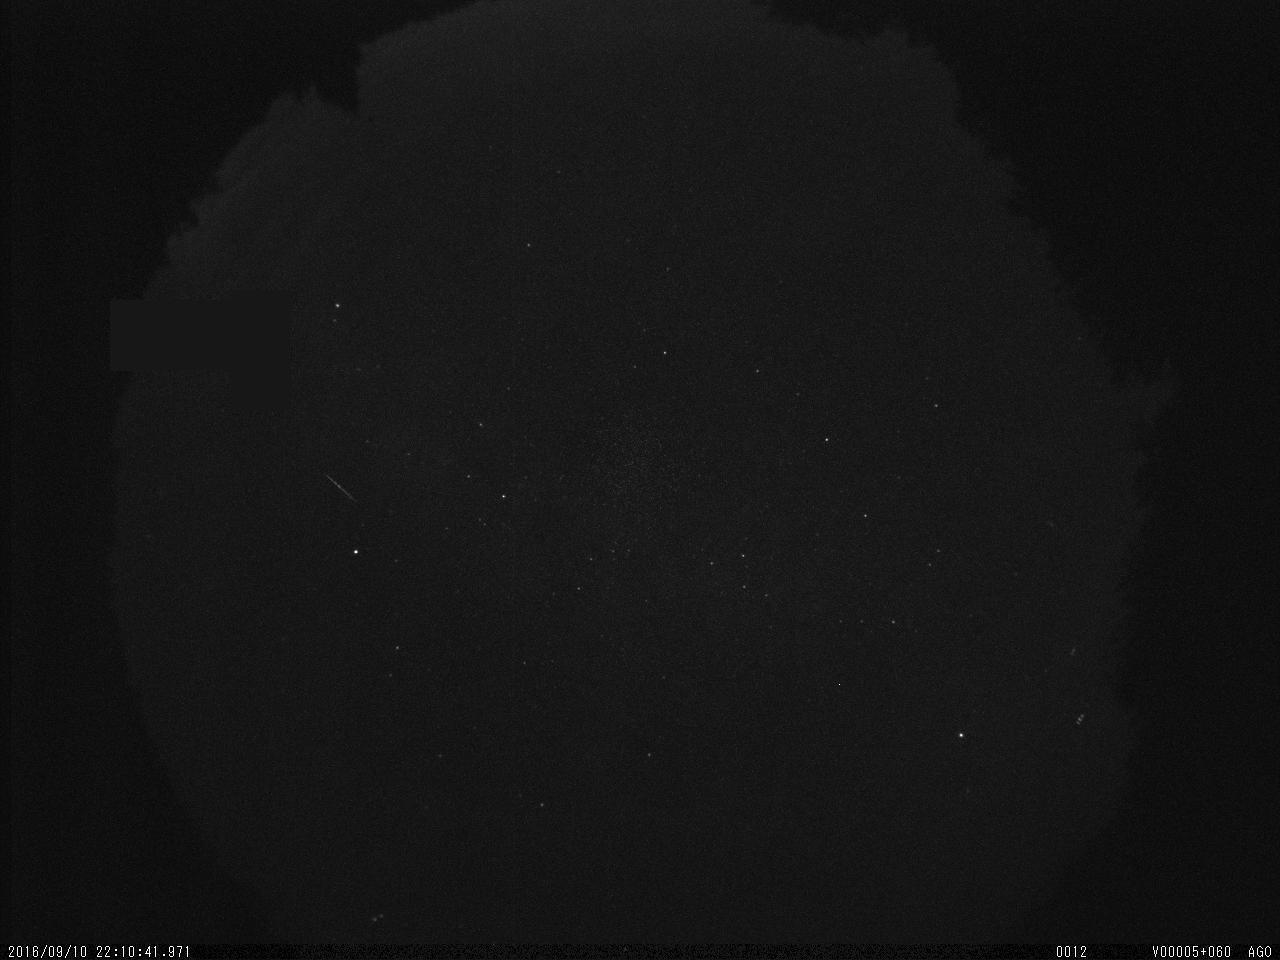Meteor: (324, 470, 358, 502)
